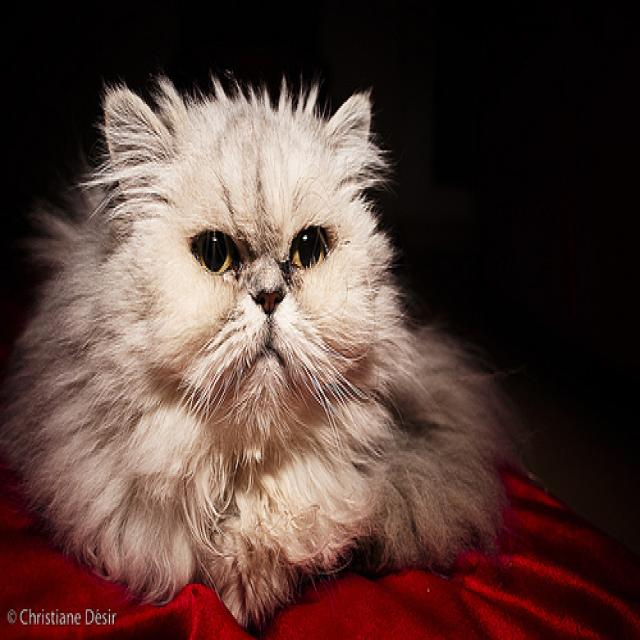cat: (104, 85, 368, 416)
